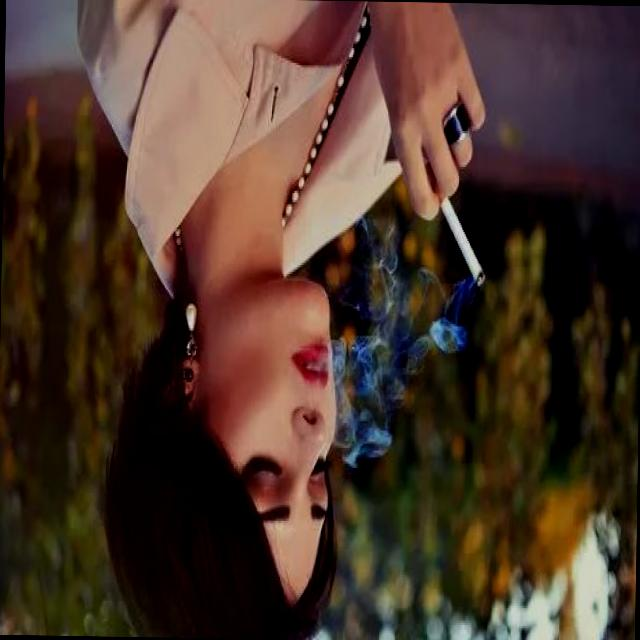cigarette: (425, 147, 490, 290)
